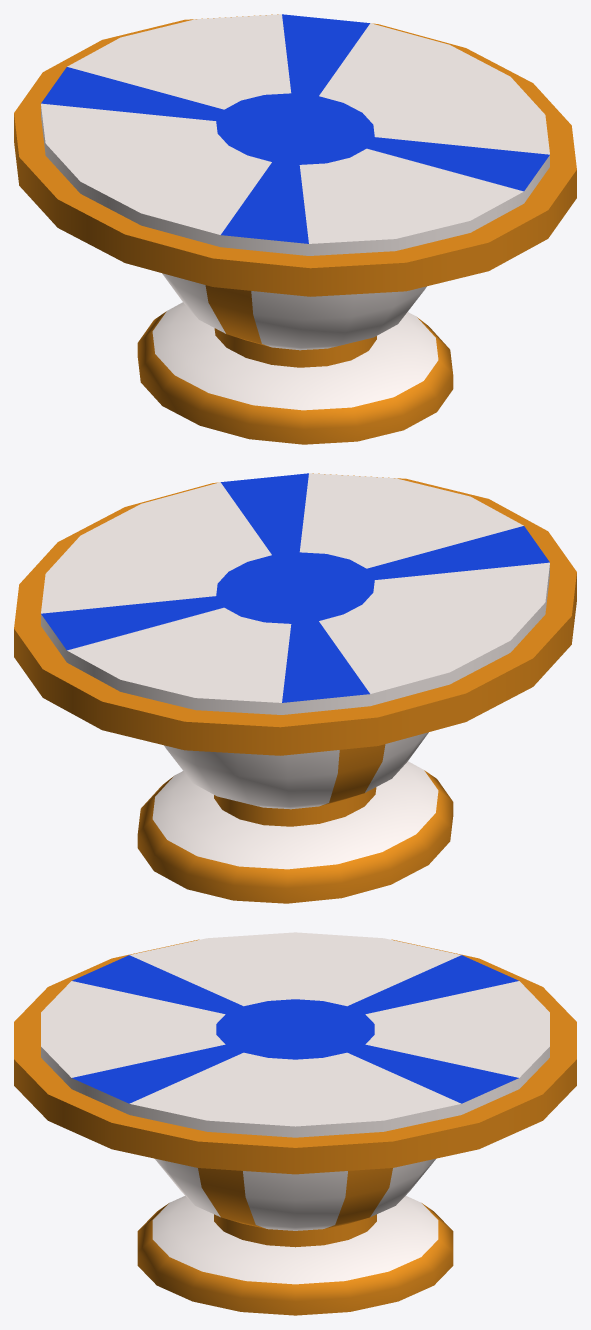
The model's file is ban 1_02.FBX.
3 views of the same model, one above another, from view 1: azimuth 30°, elevation 25°; view 2: azimuth 150°, elevation 25°; view 3: azimuth 270°, elevation 25° (orthographic). The views are drawn at different scales.
Parts seen in each view (by area): view 1: Object1227; view 2: Object1227; view 3: Object1227.
Boxes of the visible parts, x1=… form: Object1227: x1=14, y1=14, x2=576, y2=444; Object1227: x1=14, y1=473, x2=576, y2=903; Object1227: x1=14, y1=932, x2=576, y2=1315.
Size of the model in its own units: 2.92 by 1.43 by 3.24.
